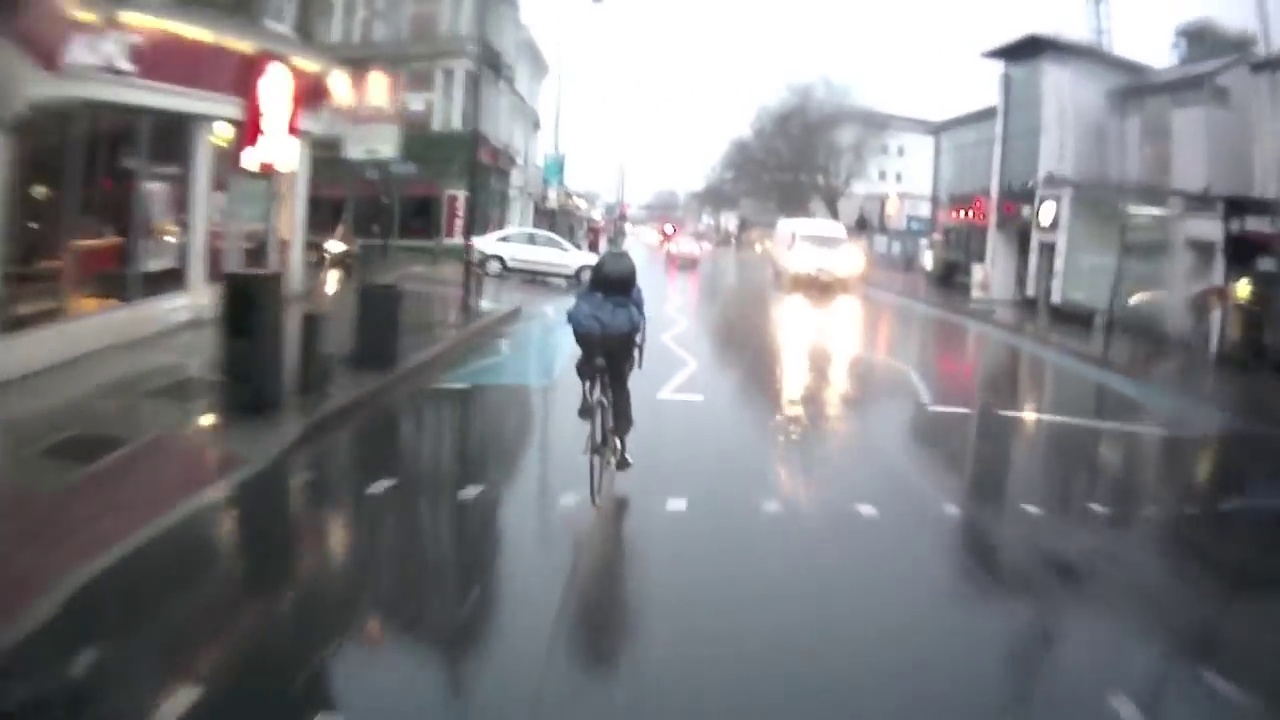cyclist_back: (560, 244, 648, 509)
